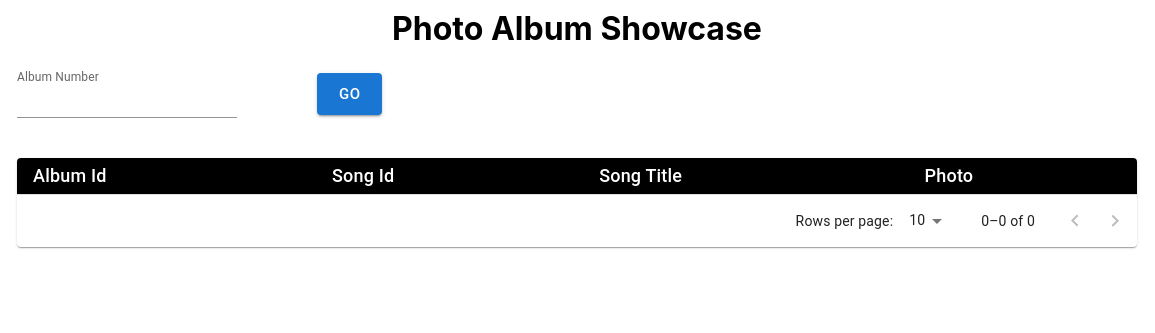
Test: photo album showcase › loads album details when button is pressed
Click the button "Go".
click(350, 94)  # box [317,73,382,115]
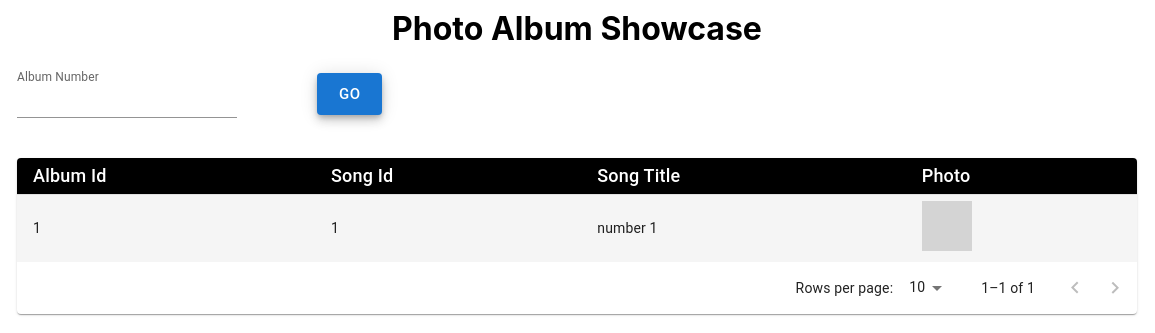
Result: the text "number 1" is shown at [581,194,906,262]
